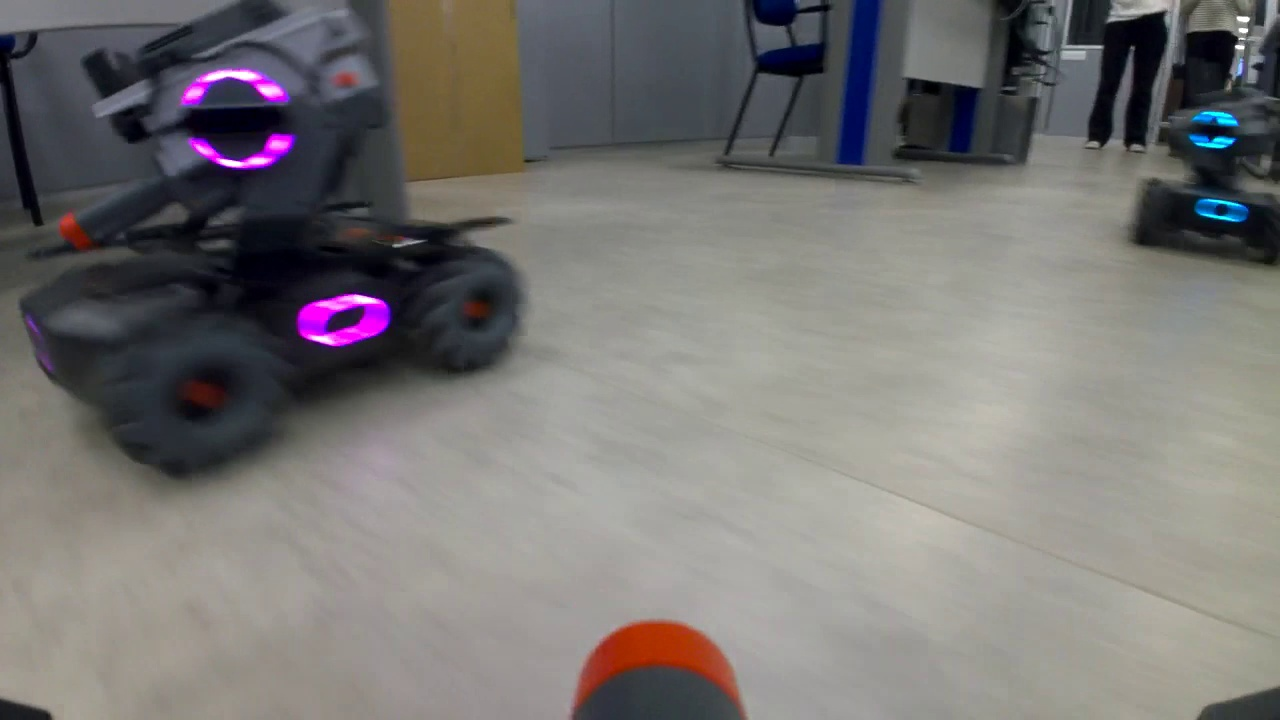robot: (14, 5, 529, 487), (1126, 87, 1280, 264)
